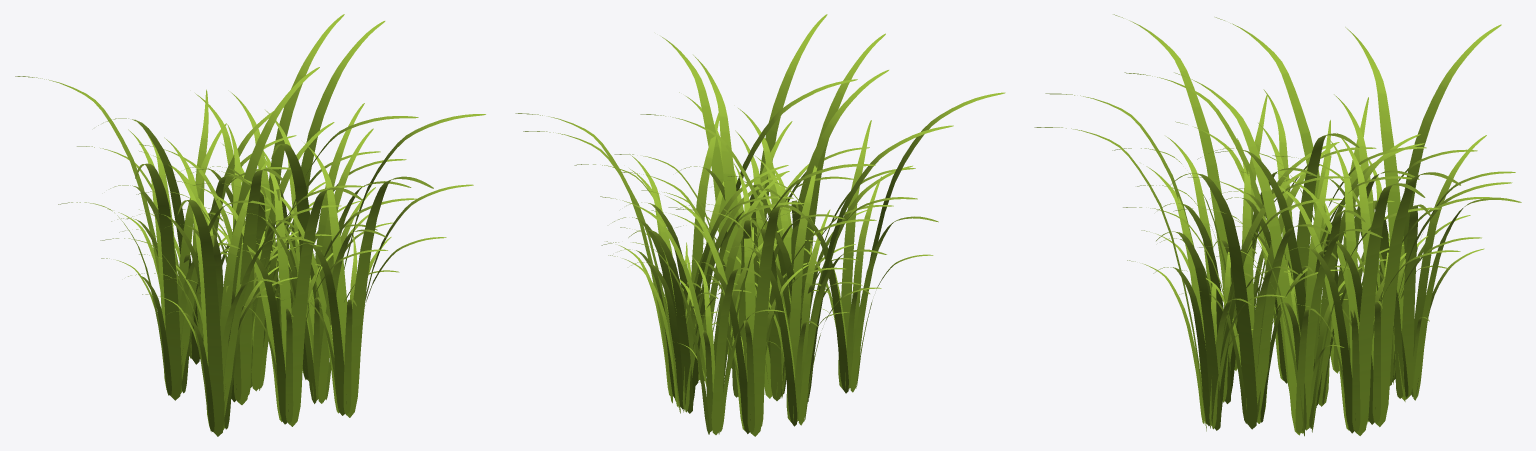
The model's file is gras 1.fbx.
3 renders of one model, left to right at view 1: azimuth 30°, elevation 25°; view 2: azimuth 150°, elevation 25°; view 3: azimuth 270°, elevation 25°, orthographic. The views are drawn at different scales.
Visible parts, largest first — view 1: Trava1.020; view 2: Trava1.020; view 3: Trava1.020.
Part boxes in pixels (bbox=[...]): Trava1.020: bbox=[15, 14, 485, 436]; Trava1.020: bbox=[515, 14, 1005, 436]; Trava1.020: bbox=[1034, 14, 1521, 436].
Bounding box in the file's own units: 1386 × 1082 × 1534.
